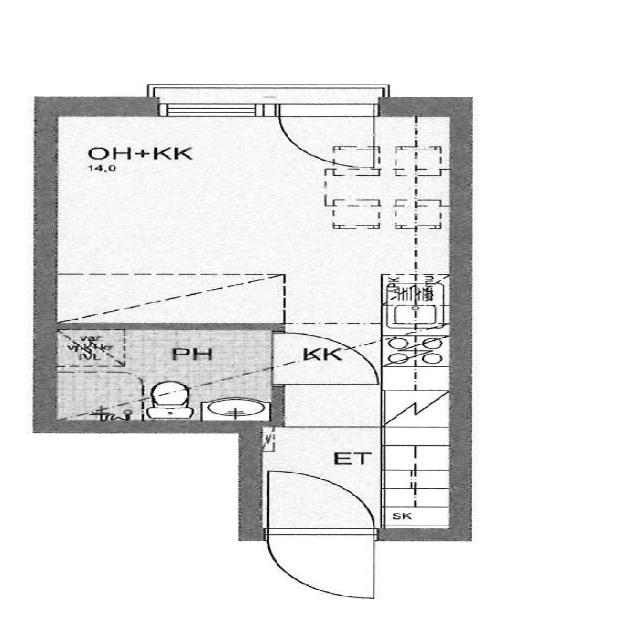door: (260, 466, 393, 604), (282, 103, 388, 175), (270, 331, 376, 387)
window: (149, 101, 268, 117)
zone: (50, 116, 458, 330), (276, 318, 453, 540), (43, 318, 279, 422)
